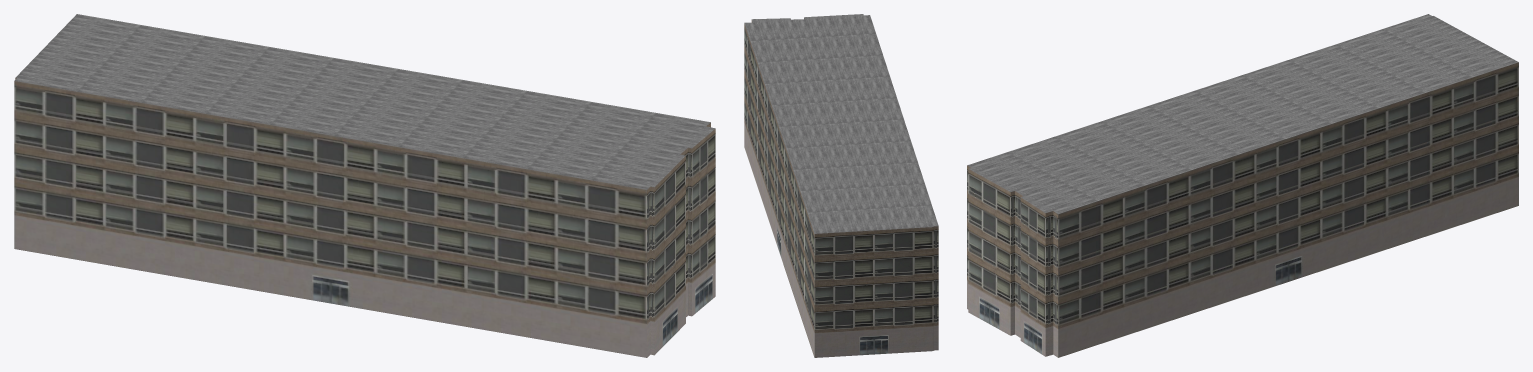
3 renders of one model, left to right at view 1: azimuth 30°, elevation 25°; view 2: azimuth 150°, elevation 25°; view 3: azimuth 270°, elevation 25°, orthographic. The views are drawn at different scales.
Parts seen in each view (by area): view 1: BuildingMaster_1977194034834463156200000000_0, BuildingMaster_1977194034834463156200000000_1; view 2: BuildingMaster_1977194034834463156200000000_1, BuildingMaster_1977194034834463156200000000_0; view 3: BuildingMaster_1977194034834463156200000000_0, BuildingMaster_1977194034834463156200000000_1.
Boxes of the visible parts, x1=… form: BuildingMaster_1977194034834463156200000000_0: x1=14, y1=77, x2=715, y2=357; BuildingMaster_1977194034834463156200000000_1: x1=14, y1=14, x2=715, y2=189; BuildingMaster_1977194034834463156200000000_1: x1=744, y1=14, x2=938, y2=233; BuildingMaster_1977194034834463156200000000_0: x1=744, y1=20, x2=938, y2=357; BuildingMaster_1977194034834463156200000000_0: x1=967, y1=62, x2=1518, y2=357; BuildingMaster_1977194034834463156200000000_1: x1=967, y1=14, x2=1518, y2=214.
Size of the model in its own units: 52.32 by 17.5 by 60.9.
Materials: 2 (2 with a texture image).
